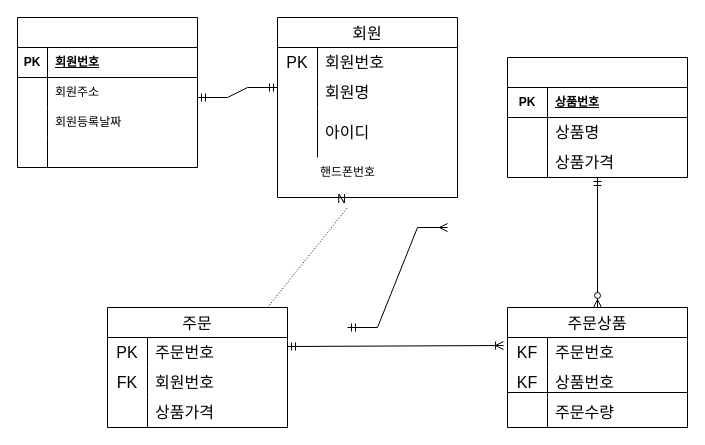
The diagram is 705 pixels wide and 445 high, and some of its shapes have lost their labels. The shapes that lost their labels are listed below. From the top down, each one's box as (x1, y1, x2, y2) in pixels, then its label:
(16, 16, 198, 168): 회원상세
(506, 56, 688, 178): 상품
